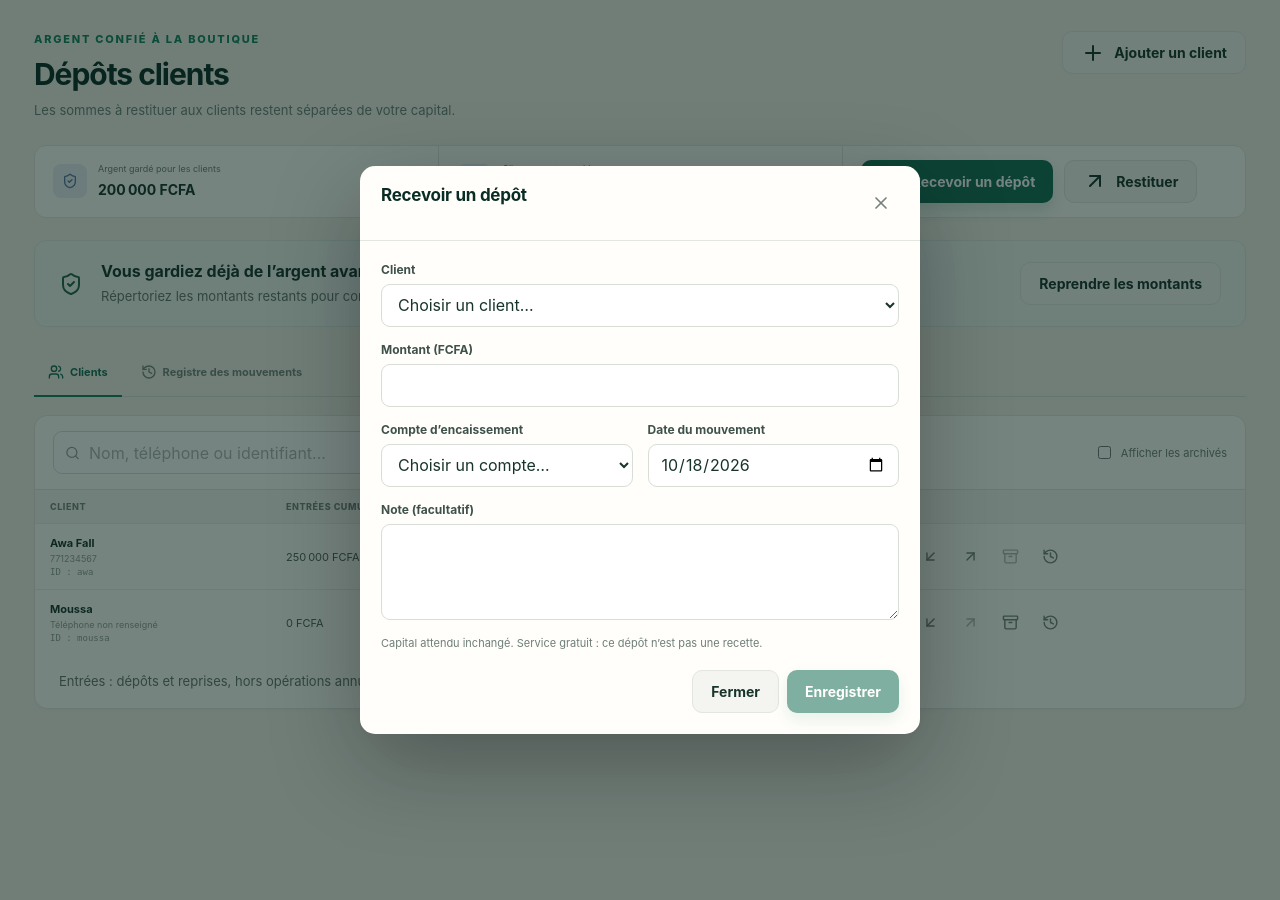
dépôts clients › conserve la même demande après erreur et empêche les doubles envois
Expected: the text "Awa Fall" is shown, x1=50 y1=536 x2=94 y2=550
Select "Awa Fall · 771234567 · 200 000 FCFA" in the dropdown labelled "Client" at [640, 305], box x1=381 y1=284 x2=899 y2=327
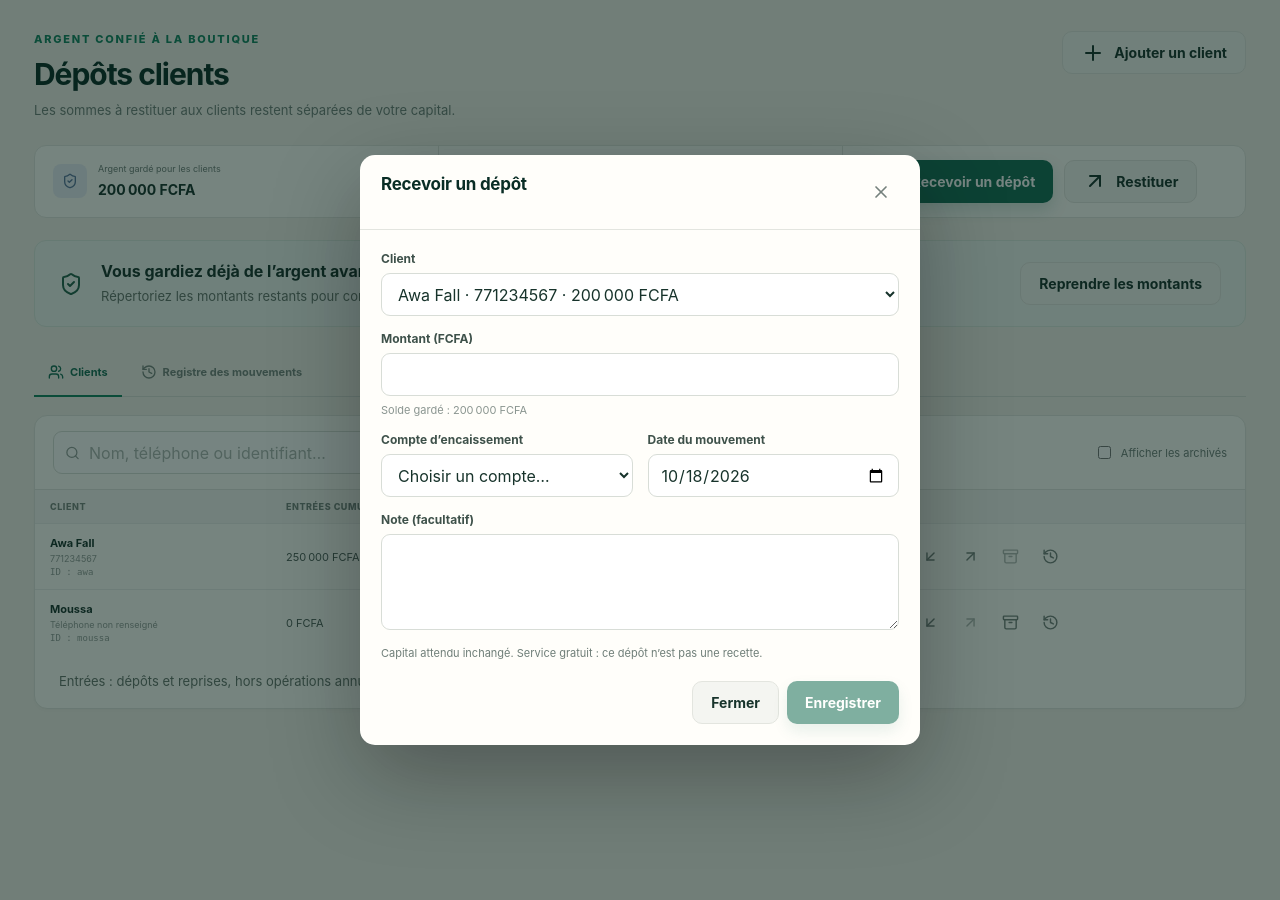
Type "50000" into the number field labelled "Montant (FCFA) Solde gardé : 200 000 FCFA" at [640, 375], box x1=381 y1=353 x2=899 y2=396
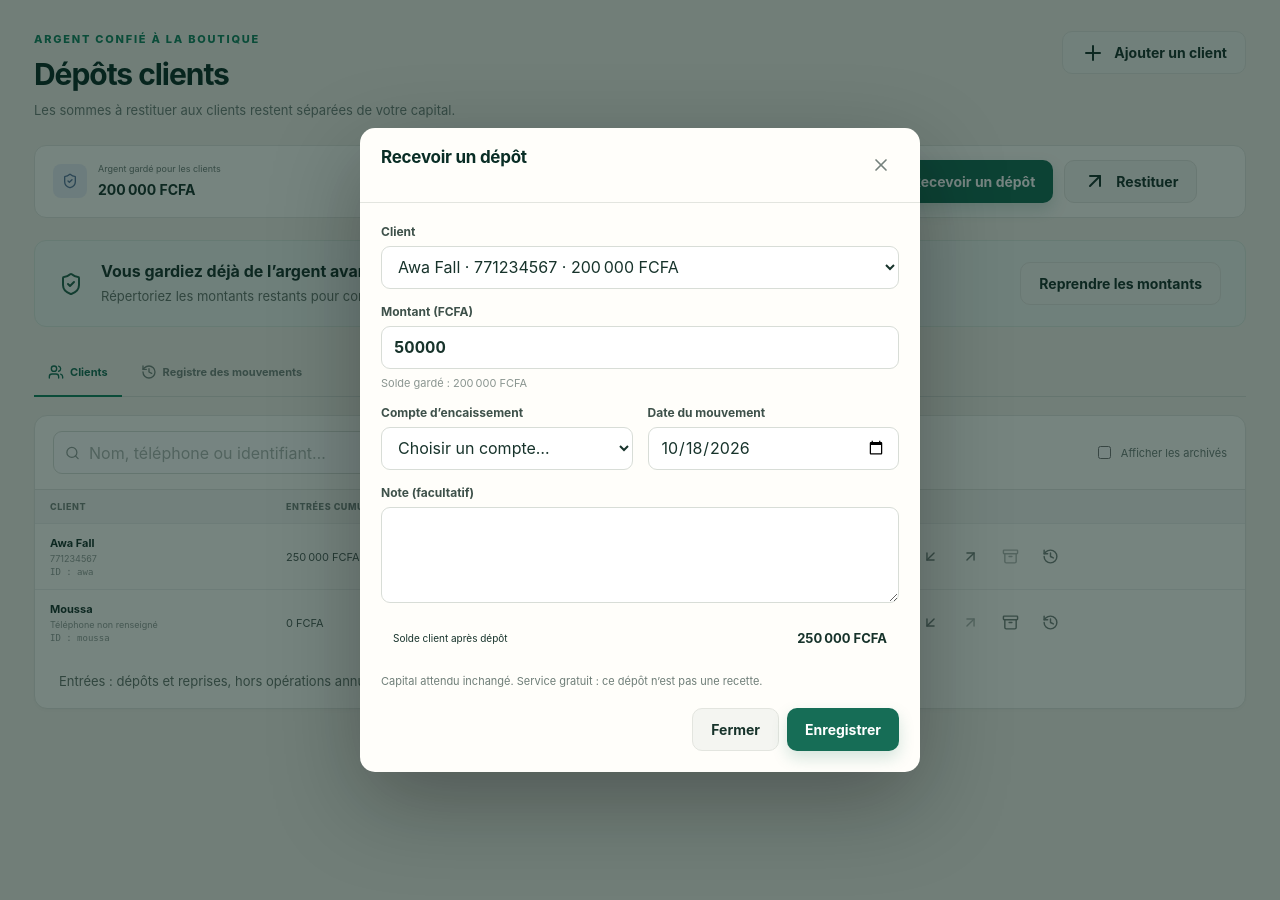
Select "Wave réserve" in the dropdown labelled "Compte d’encaissement" at [507, 448], box x1=381 y1=427 x2=632 y2=470
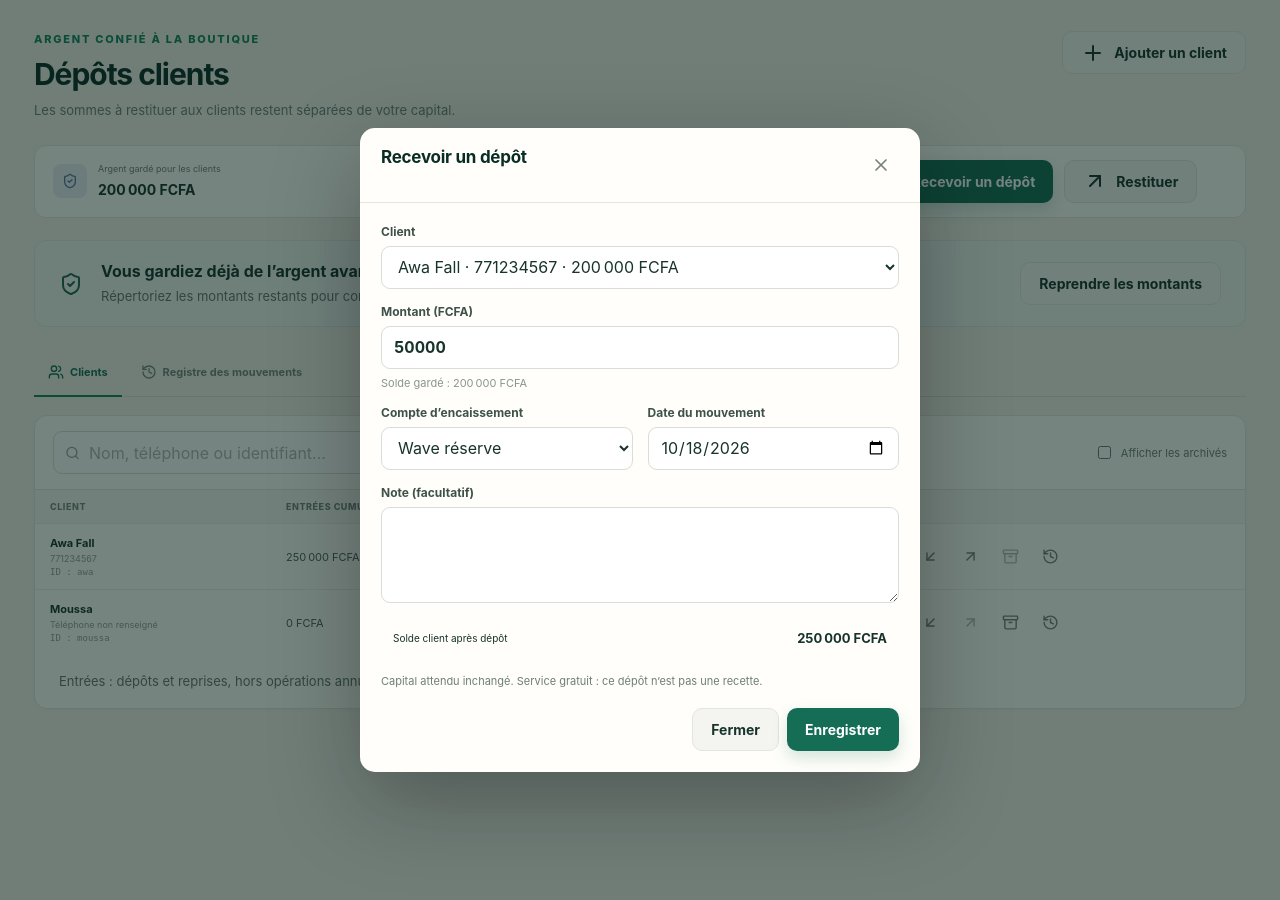
Submit the form named "Enregistrer", box x1=381 y1=224 x2=899 y2=751
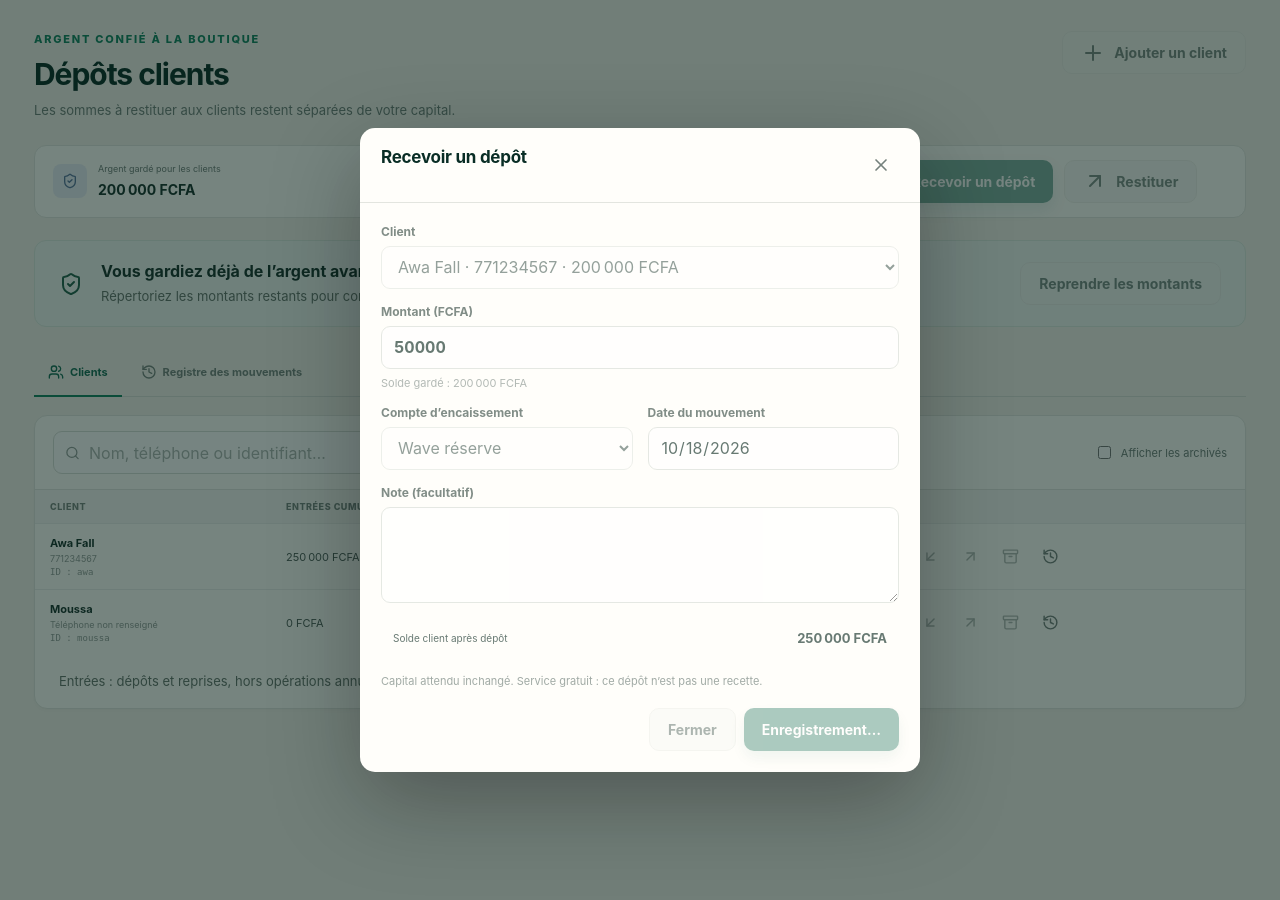
Submit the form named "Enregistrer", box x1=381 y1=224 x2=899 y2=751
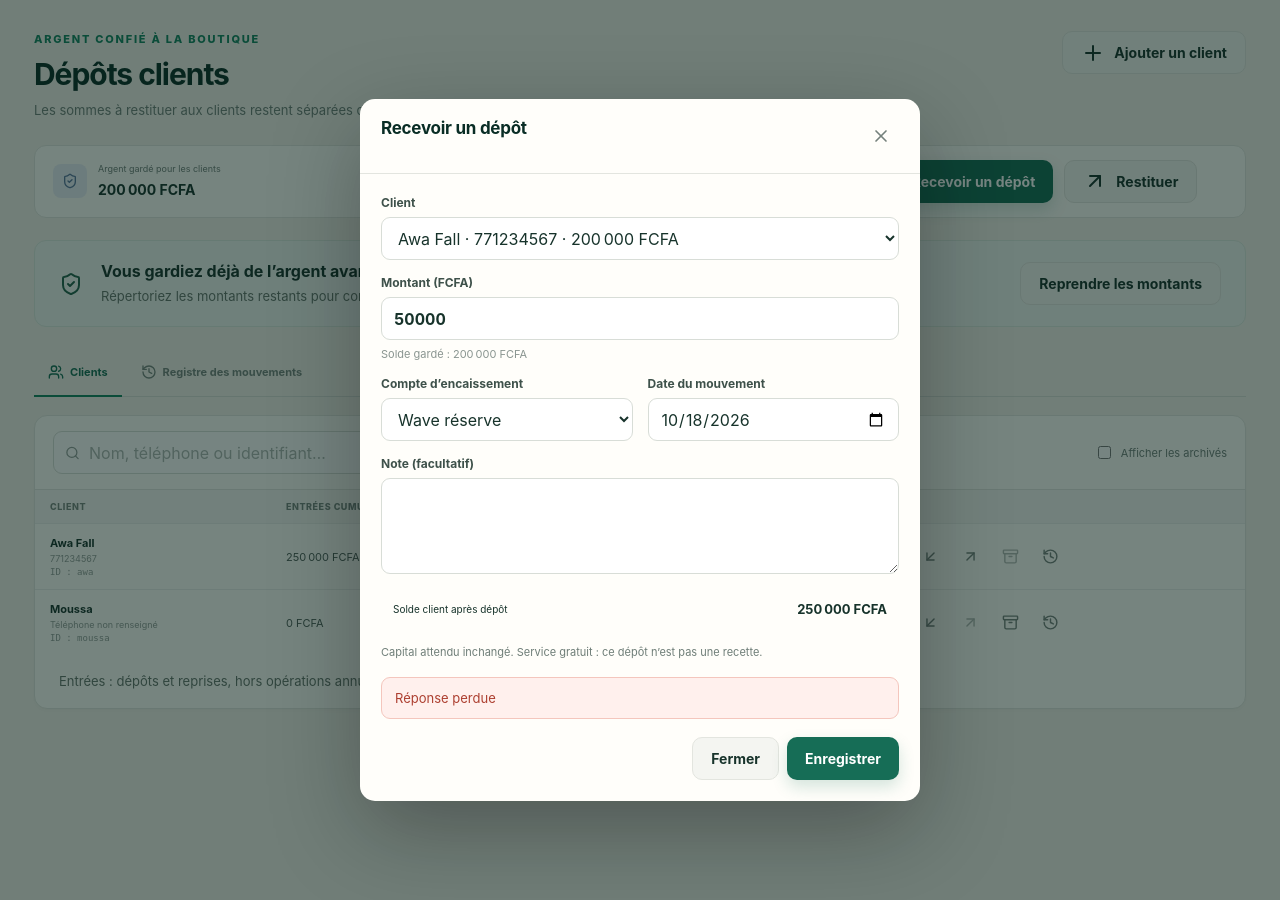
Expected: the message reads "Réponse perdue", x1=395 y1=690 x2=496 y2=706
Submit the form named "Enregistrer", box x1=381 y1=195 x2=899 y2=780
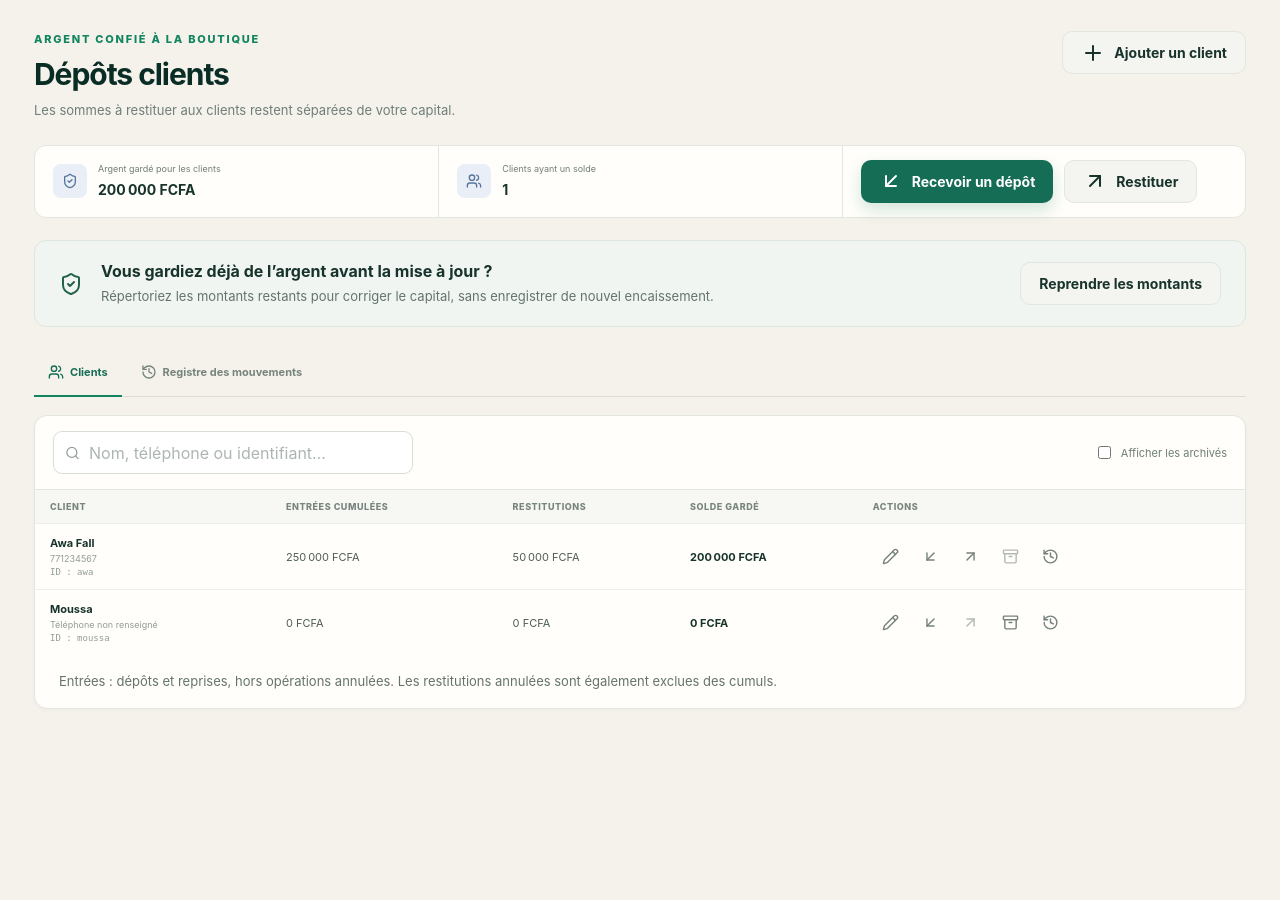
Expected: the dialog is gone
